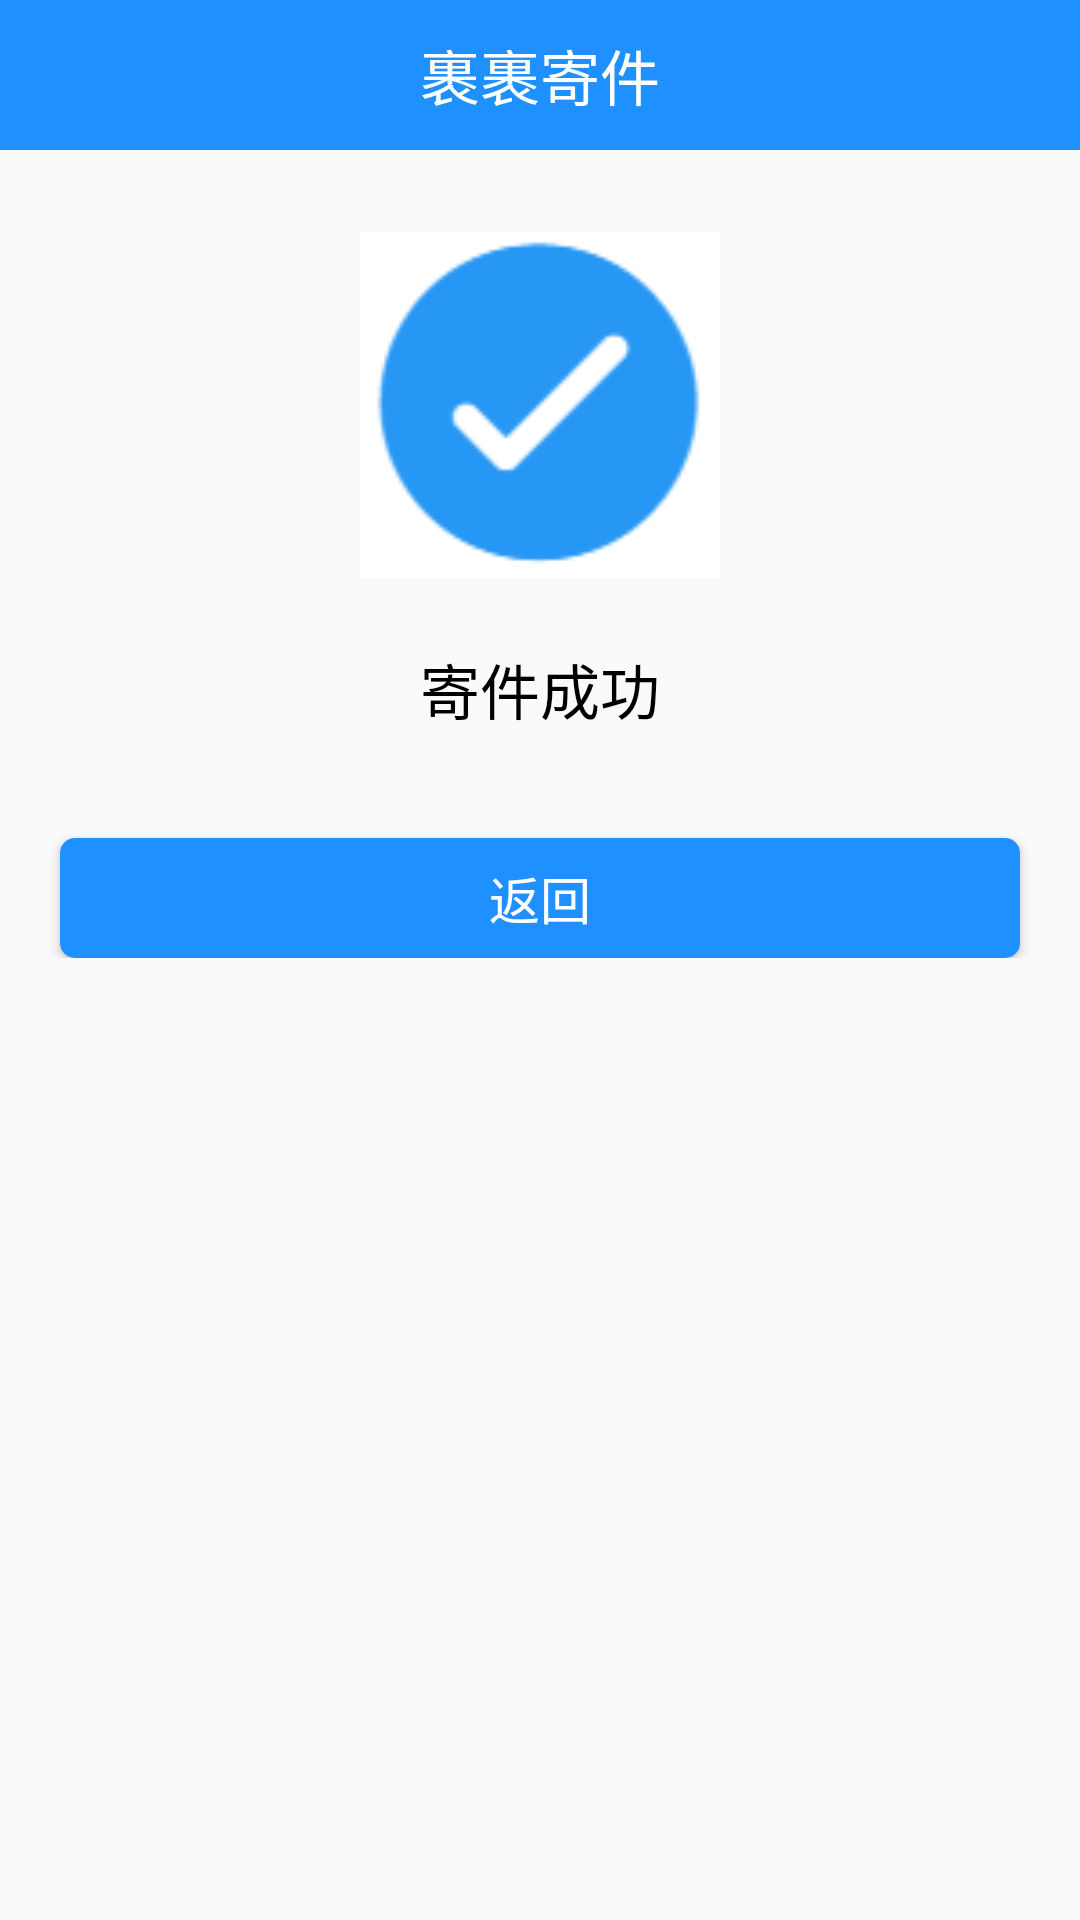

Named icons in this screenshot (1080×1920) and their centers, point (x, y):
yes: point (538, 402)
